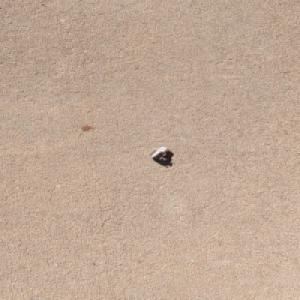MetalPart: (148, 146, 169, 161)
